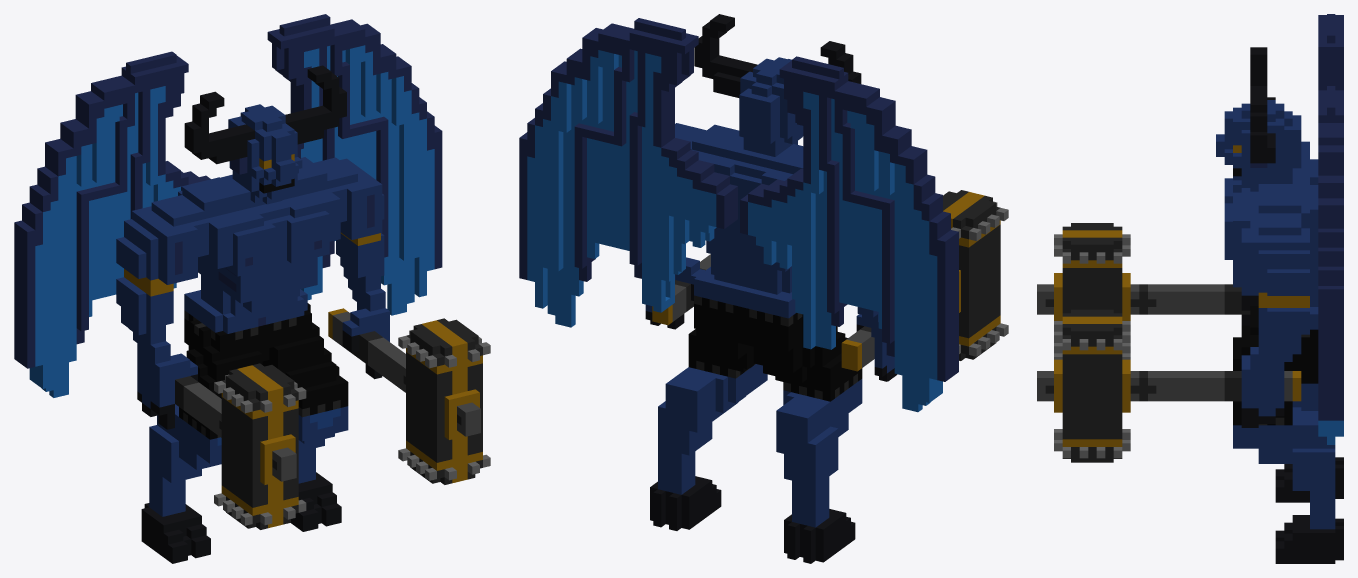
File: blue_daemon.fbx
The picture shows the model from 3 angles, left to right: view 1: azimuth 30°, elevation 25°; view 2: azimuth 150°, elevation 25°; view 3: azimuth 270°, elevation 25°; orthographic projection. The views are drawn at different scales.
Visible parts, largest first — view 1: blue_daemon; view 2: blue_daemon; view 3: blue_daemon.
Boxes of the visible parts, x1,y1,x2,y2 form: blue_daemon: (14,14,490,563); blue_daemon: (519,14,1008,563); blue_daemon: (1037,14,1343,563).
Bounding box in the file's own units: 54 × 60 × 36.
